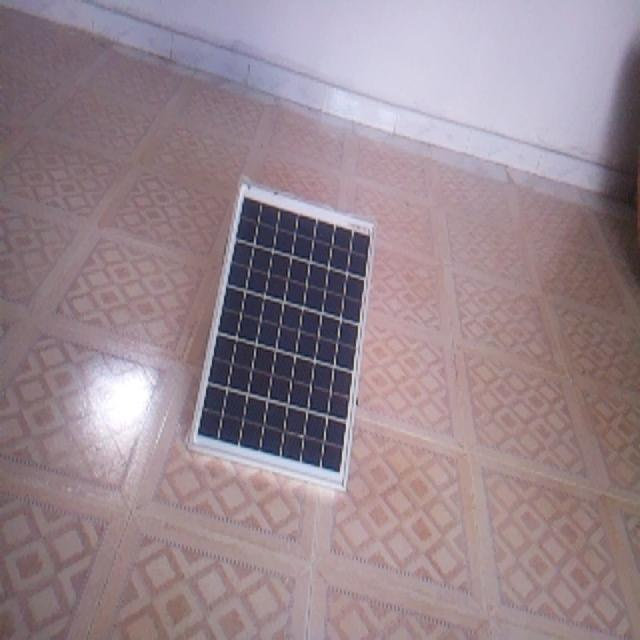Normal Solar Panel: (190, 179, 375, 491)
